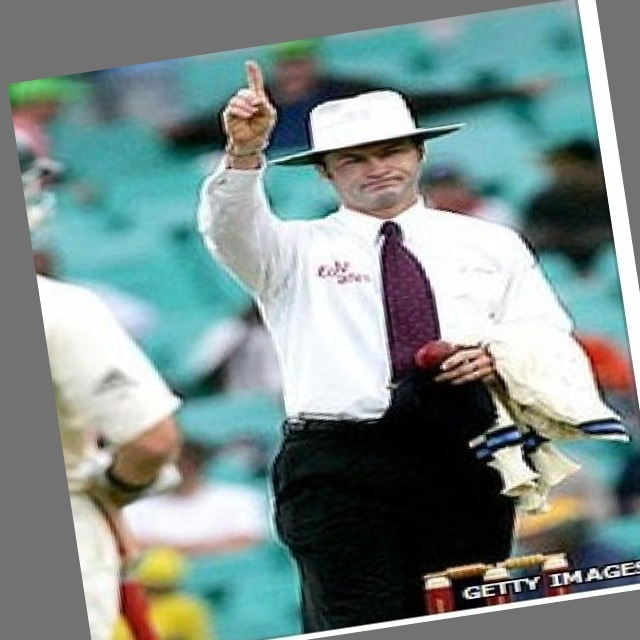Out: (171, 7, 640, 640)
